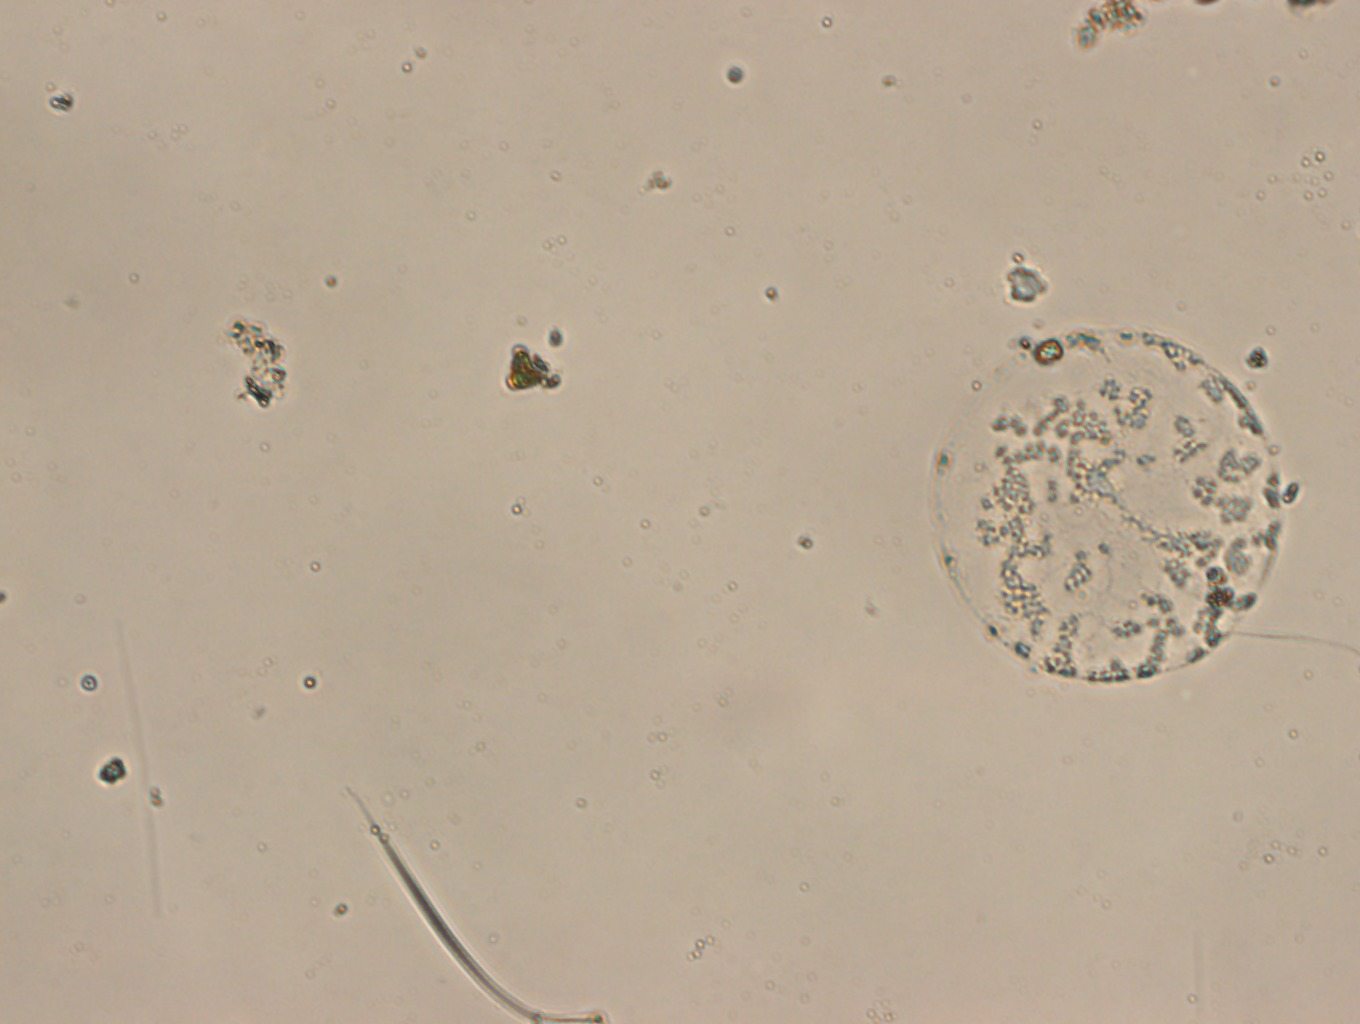coscinodiscus: (915, 318, 1290, 689)
